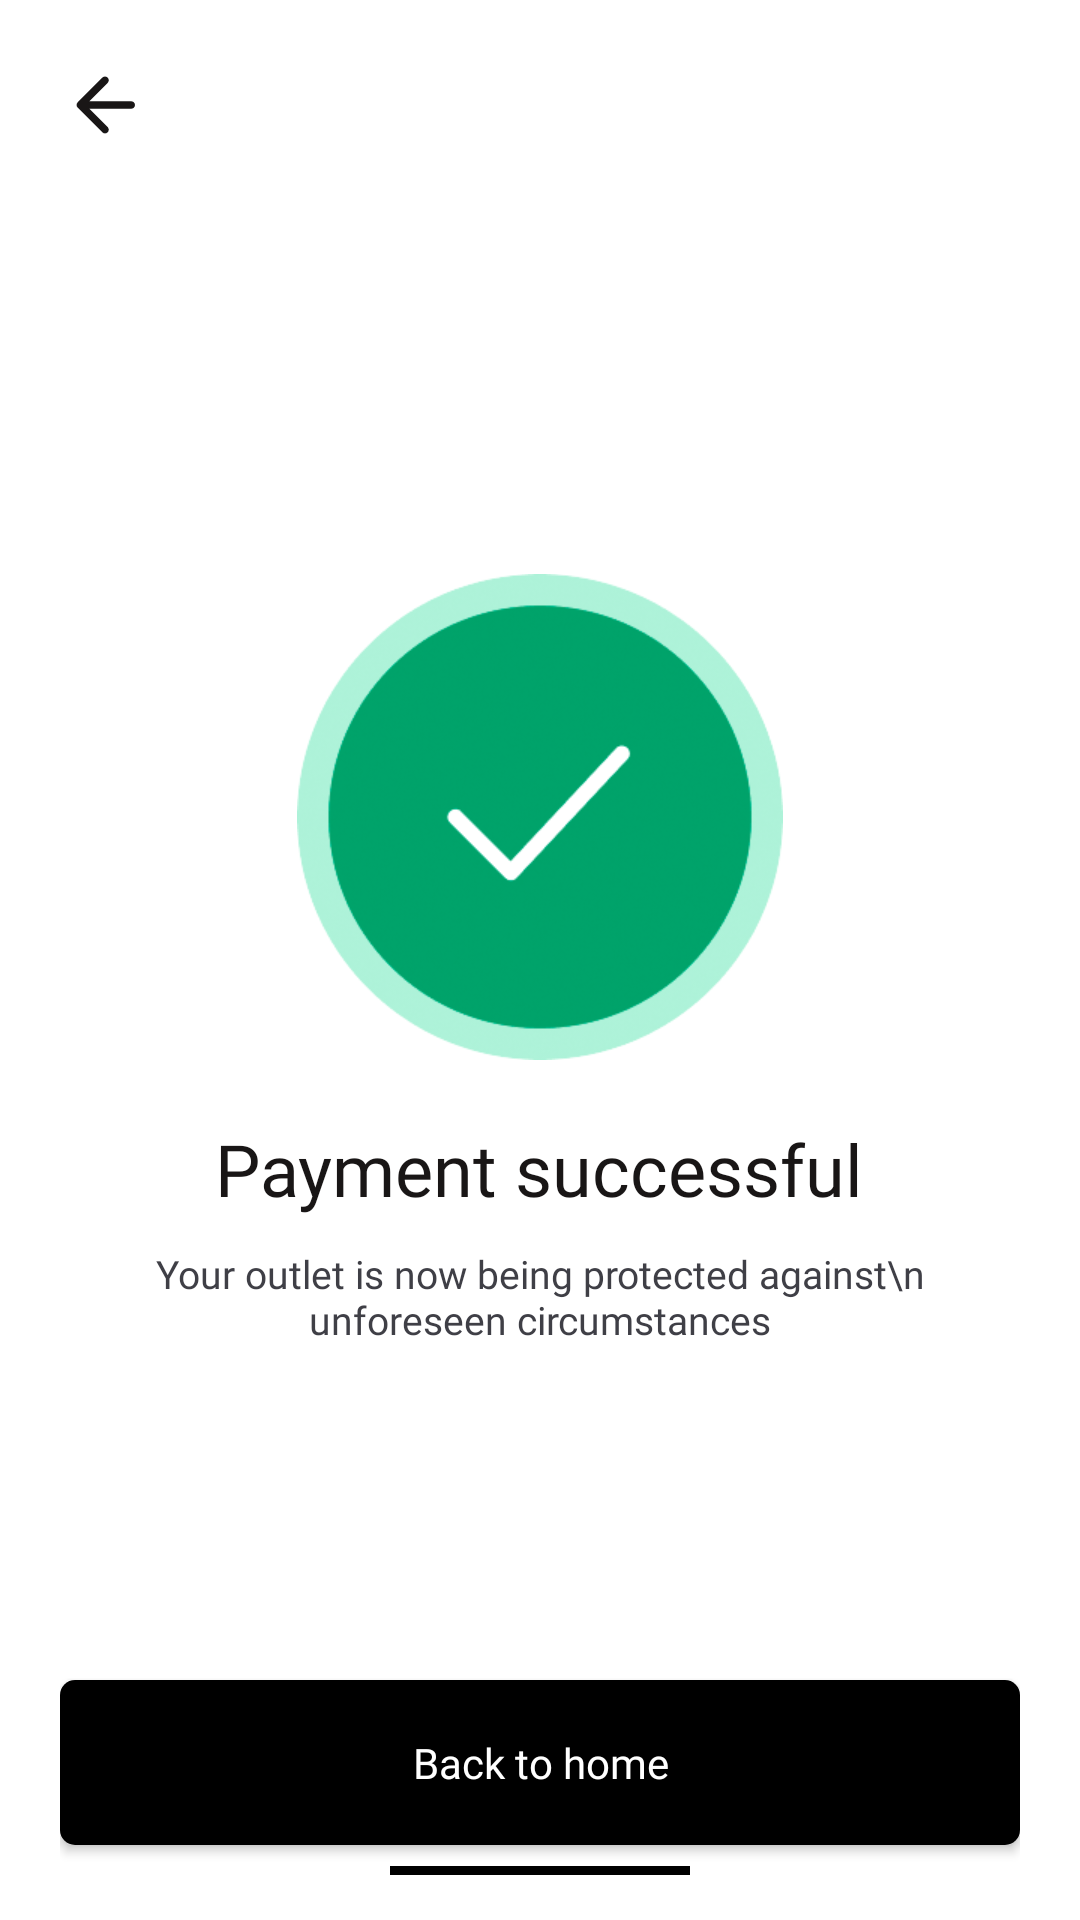

Icon click points for this 1080x1920 phone screenshot, format (x=x, y=y):
arrow left: (x=105, y=105)
